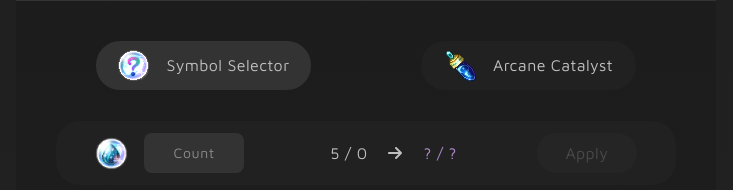
Test: Tools — Catalyst › arcane keeps 80% of cumulative exp: level 5 → 4 / 13
Click the button "Arcane Catalyst": (528, 65) [421,41,636,90]
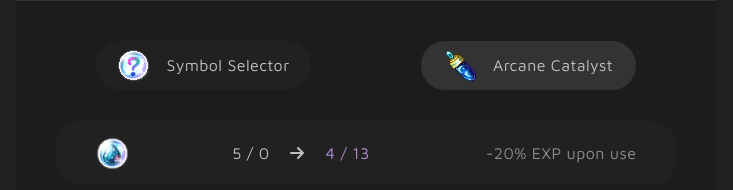
expect the text "4 / 13" is shown: met, box [326,141,370,165]
expect the text "-20% EXP upon use" is shown: met, box [486,144,636,162]
